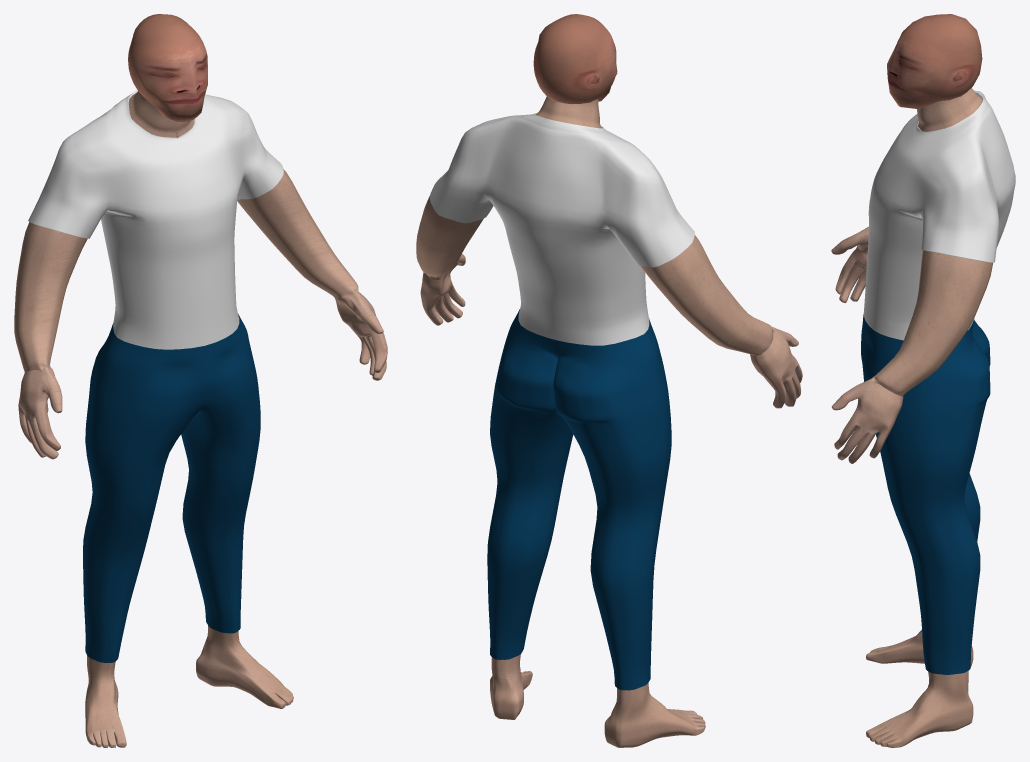
The model's file is npc3.fbx.
3 renders of one model, left to right at view 1: azimuth 30°, elevation 25°; view 2: azimuth 150°, elevation 25°; view 3: azimuth 270°, elevation 25°, orthographic. The views are drawn at different scales.
Parts seen in each view (by area): view 1: pasted__pasted__group4; view 2: pasted__pasted__group4; view 3: pasted__pasted__group4.
Boxes of the visible parts, box(x1,y1,x2,y2) form: pasted__pasted__group4: box(14, 14, 387, 747); pasted__pasted__group4: box(416, 14, 802, 747); pasted__pasted__group4: box(831, 14, 1015, 747).
Bounding box in the file's own units: 6.06 × 11.3 × 2.77.
Materials: 4 (2 with a texture image).
